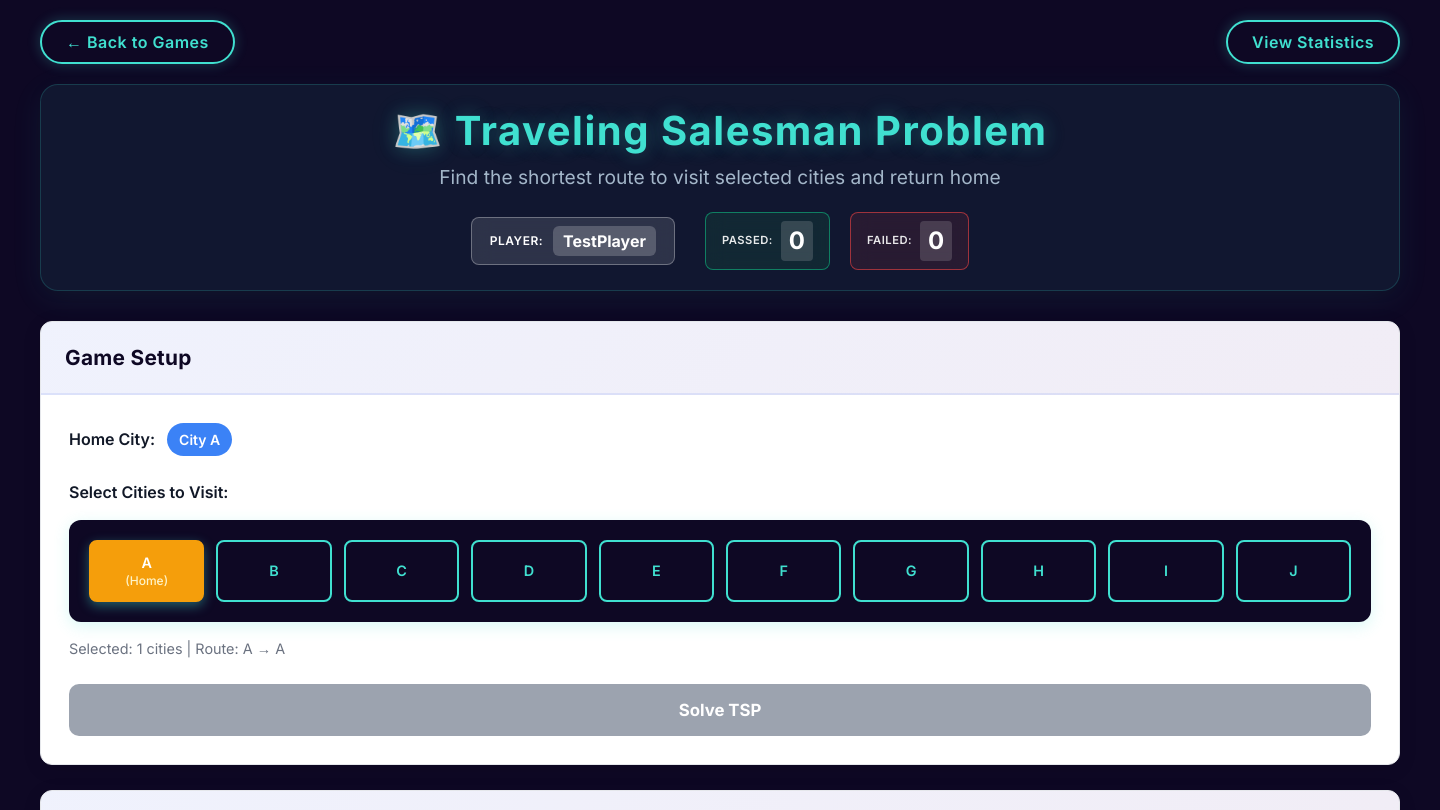
TSPGame › allows city selection and solving
Expected: the text "B" is shown, [269,562,279,580]
Select City B
Step 1. Click the button "B" → click(274, 571), box [216,540,332,602]
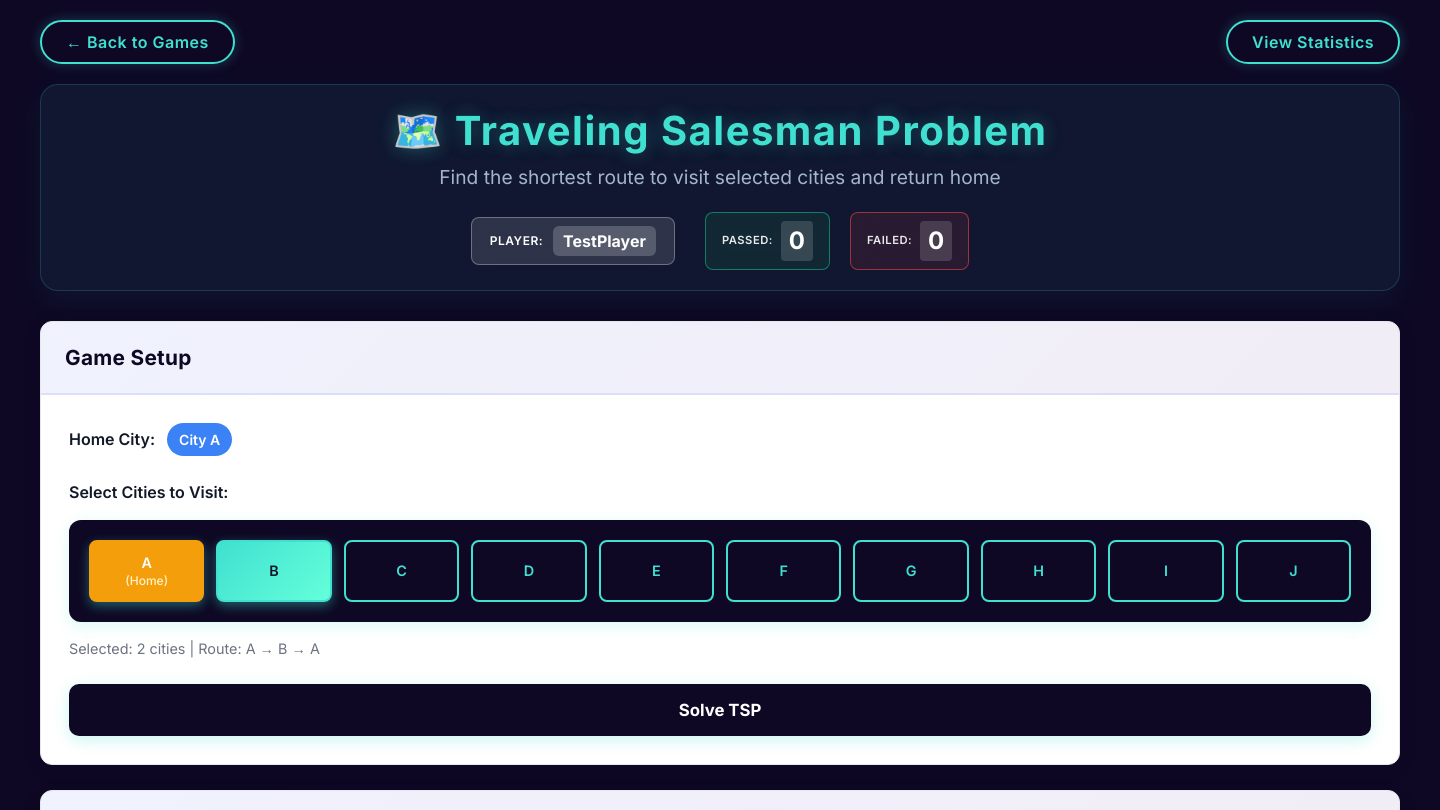
Expected: the button "Solve TSP" is enabled
Step 2. Click the button "Solve TSP" → click(720, 710), box [69,684,1371,736]
(page scrolled)
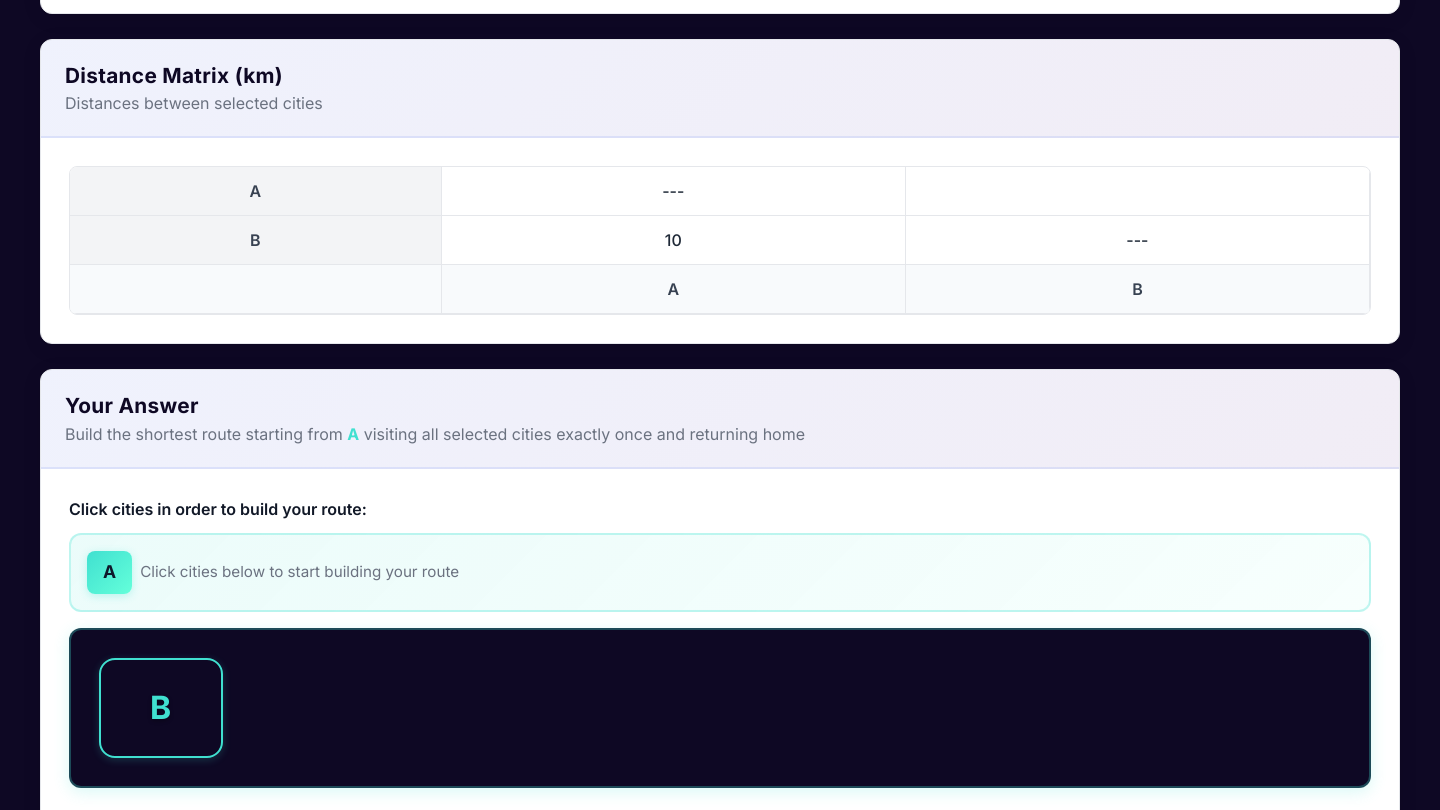
Expected: the heading "Distance Matrix (km)" is shown, [65,63,283,88]
Expected: the heading "Your Answer" is shown, [65,393,199,418]
